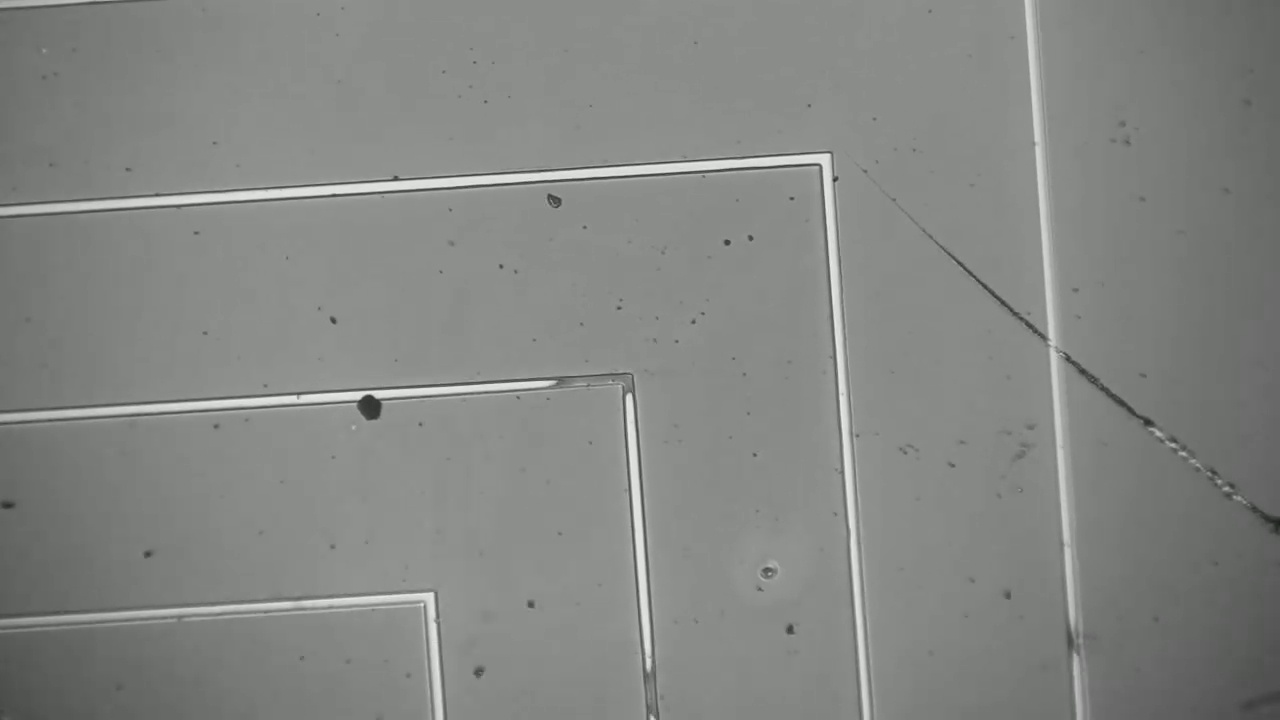gray_line: (536, 366, 647, 399), (628, 656, 670, 719), (1058, 610, 1093, 667), (610, 363, 645, 411)
scratch: (873, 181, 1271, 523)
stains_enbedded: (347, 375, 387, 427)
